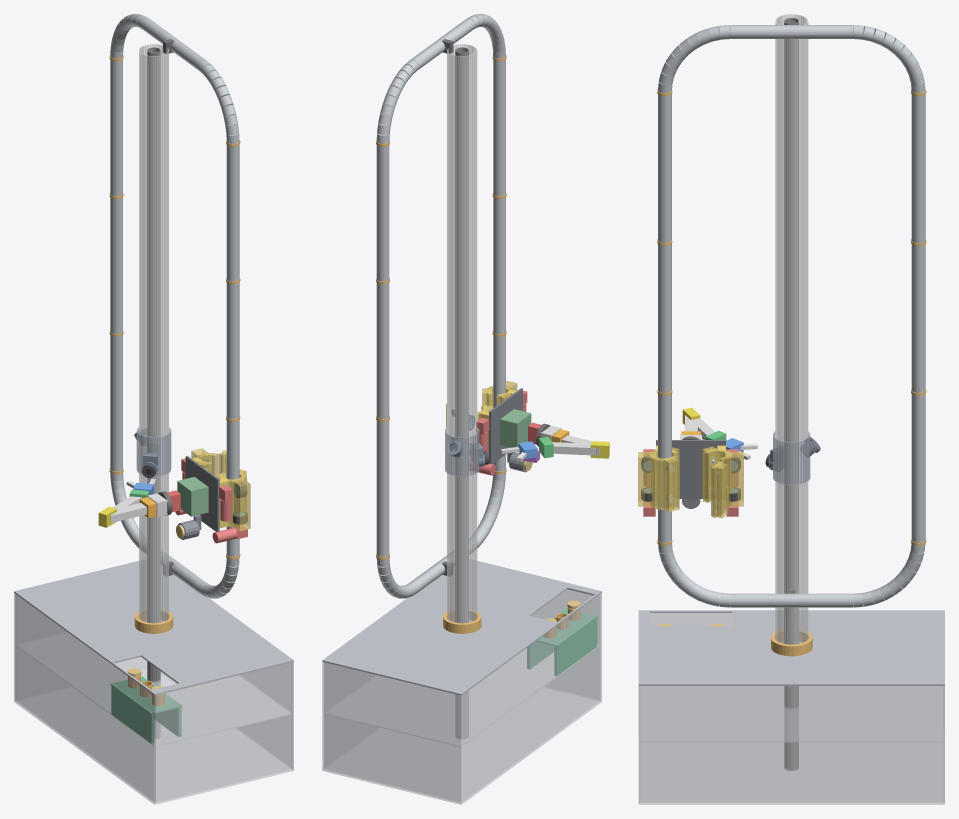
The model's file is transplant-seedling-step3-plug-v7.glb.
3 views of the same model, side by side, from view 1: azimuth 30°, elevation 25°; view 2: azimuth 150°, elevation 25°; view 3: azimuth 270°, elevation 25° (orthographic). The views are drawn at different scales.
Bounding box in the file's own units: 0.4899 × 1.9 × 0.701.
